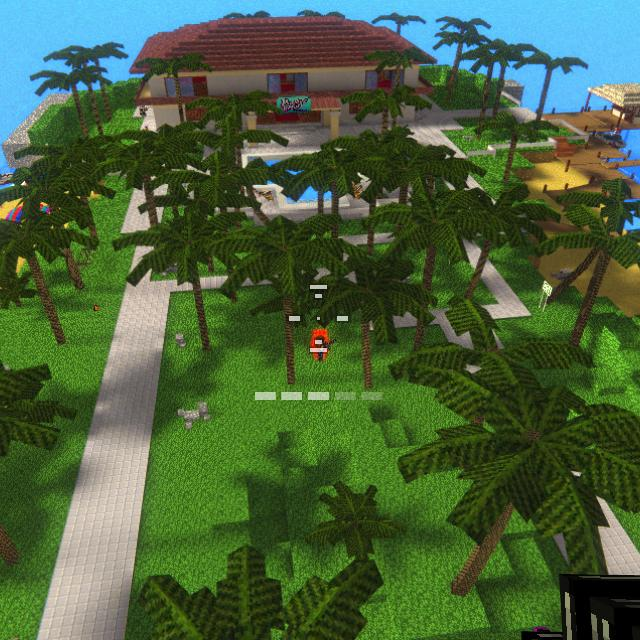Enemy: (313, 336, 328, 360)
